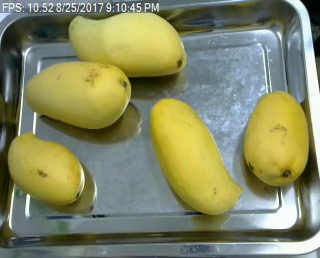Mango: (147, 95, 242, 217), (64, 12, 190, 78), (21, 59, 130, 129), (241, 84, 311, 186), (8, 131, 86, 205)
